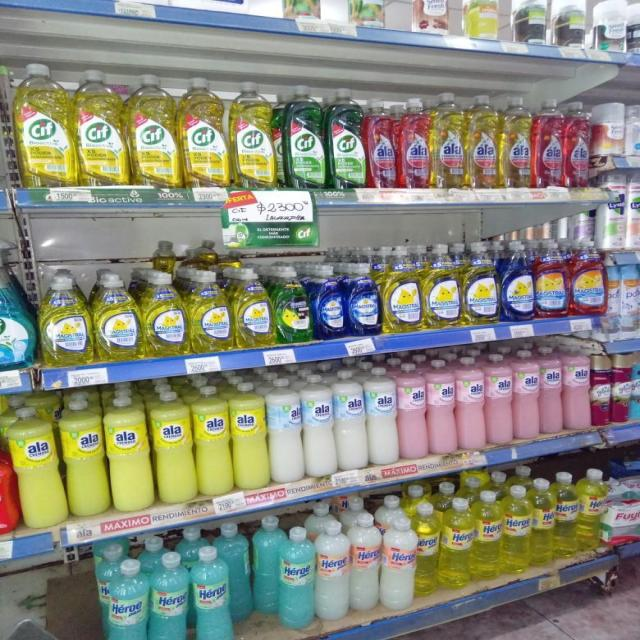ala_conc_amarillo: (431, 92, 466, 190), (467, 93, 499, 189), (500, 96, 532, 189)
ala_conc_rojo: (399, 96, 430, 189), (366, 98, 397, 189), (534, 98, 563, 189), (564, 100, 592, 188)
ala_crem_amarillo: (12, 405, 61, 529), (106, 390, 151, 513), (62, 392, 105, 519), (152, 388, 194, 506), (194, 384, 230, 499), (232, 380, 267, 492)
ala_crem_blanco: (268, 376, 303, 486), (304, 373, 334, 479), (336, 369, 366, 472), (368, 366, 397, 467)
ala_crem_rosado: (398, 364, 427, 461), (428, 359, 456, 456), (456, 356, 484, 452), (486, 354, 512, 447), (564, 346, 590, 432), (514, 352, 539, 441), (540, 350, 563, 435)
ala_ultra_rosa: (0, 410, 13, 539)
cif_conc_bot_amarilla: (15, 62, 72, 188), (74, 68, 124, 187), (128, 74, 177, 188), (179, 76, 228, 188), (230, 81, 275, 189)
cif_conc_botella_verde: (282, 84, 325, 190), (328, 87, 364, 189)
heroe: (192, 545, 234, 640), (278, 525, 314, 629), (103, 557, 147, 640), (149, 551, 189, 640), (316, 520, 349, 621), (381, 514, 415, 610), (440, 496, 473, 590), (350, 514, 380, 613), (502, 485, 531, 575), (474, 491, 502, 582), (416, 505, 439, 599), (532, 477, 554, 568), (556, 472, 578, 559)
magistral_con_amarillo: (39, 274, 91, 367), (94, 271, 141, 362), (143, 271, 187, 358), (189, 269, 231, 353), (383, 245, 422, 334), (424, 243, 461, 329), (234, 266, 272, 348), (463, 240, 499, 326)
magistral_con_azul: (500, 238, 534, 322), (346, 262, 380, 337), (313, 264, 345, 340)
magistral_con_rojo: (571, 238, 605, 316), (536, 238, 568, 320)
